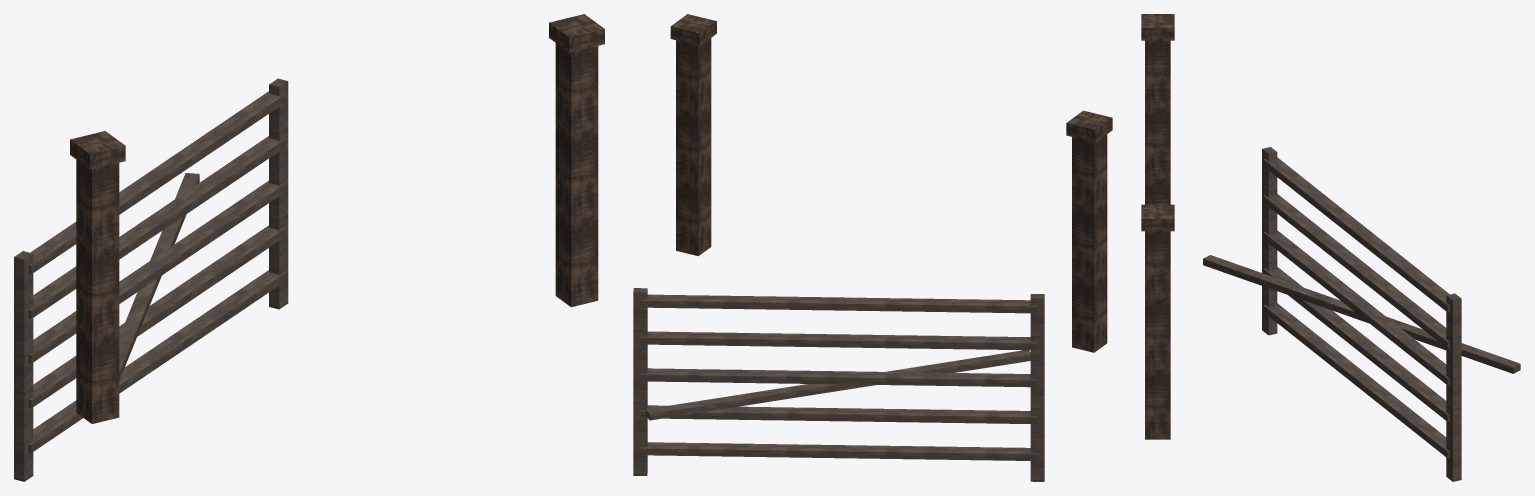
The model's file is prop_fence_gate.glb.
3 renders of one model, left to right at view 1: azimuth 30°, elevation 25°; view 2: azimuth 150°, elevation 25°; view 3: azimuth 270°, elevation 25°, orthographic. The views are drawn at different scales.
Parts seen in each view (by area): view 1: prop_fence_gate; view 2: prop_fence_gate; view 3: prop_fence_gate.
Part boxes in pixels (<box>): prop_fence_gate: <box>14,14,604,481</box>; prop_fence_gate: <box>633,14,1112,481</box>; prop_fence_gate: <box>1141,14,1520,481</box>.
Bounding box in the file's own units: 2.47 × 1.76 × 1.93.
Materials: 2 (2 with a texture image).
